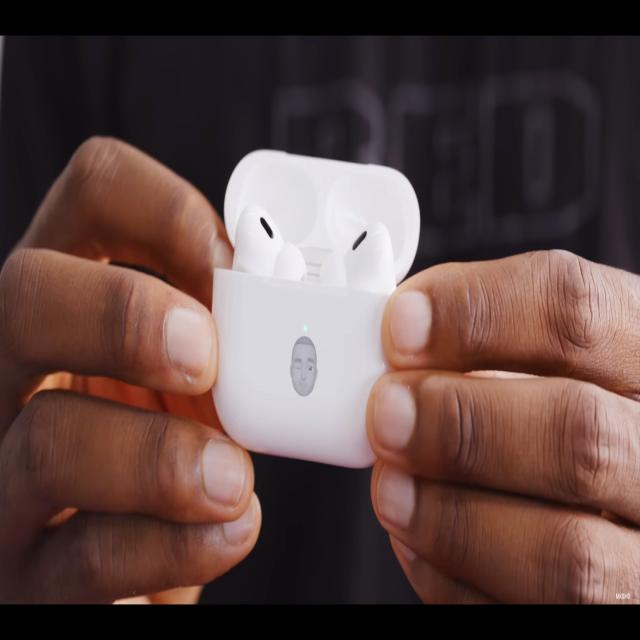Neckband: (208, 143, 424, 473)
